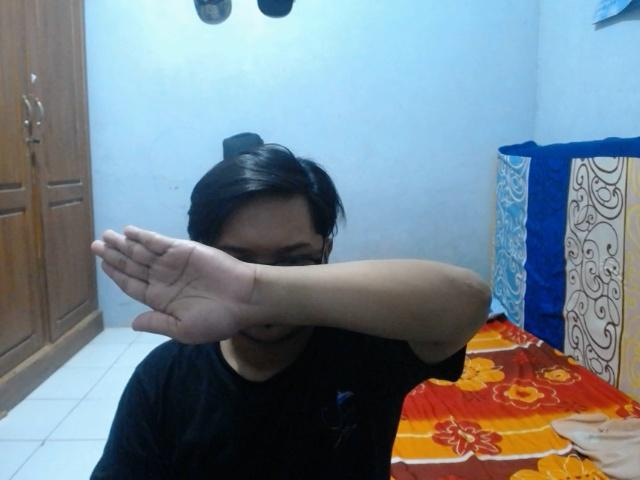Release: (87, 222, 264, 350)
